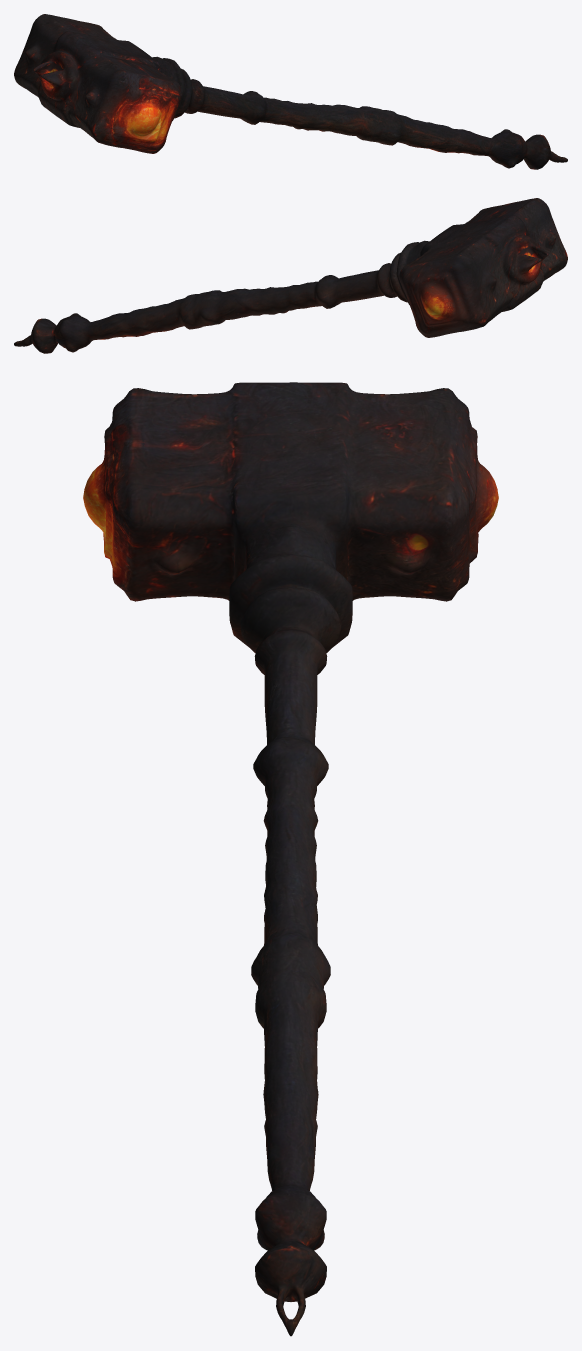
File: StarveDevilWeapon_FBX.fbx
3 renders of one model, top to bottom at view 1: azimuth 30°, elevation 25°; view 2: azimuth 150°, elevation 25°; view 3: azimuth 270°, elevation 25°, orthographic. The views are drawn at different scales.
Parts seen in each view (by area): view 1: Mesh1_Mesh1.026; view 2: Mesh1_Mesh1.026; view 3: Mesh1_Mesh1.026.
Boxes of the visible parts, box(x1,y1,x2,y2) form: Mesh1_Mesh1.026: box(14, 14, 567, 169); Mesh1_Mesh1.026: box(14, 198, 567, 353); Mesh1_Mesh1.026: box(83, 382, 498, 1336).
Bounding box in the file's own units: 199 × 85.85 × 67.47.
1 material, 1 textured.
